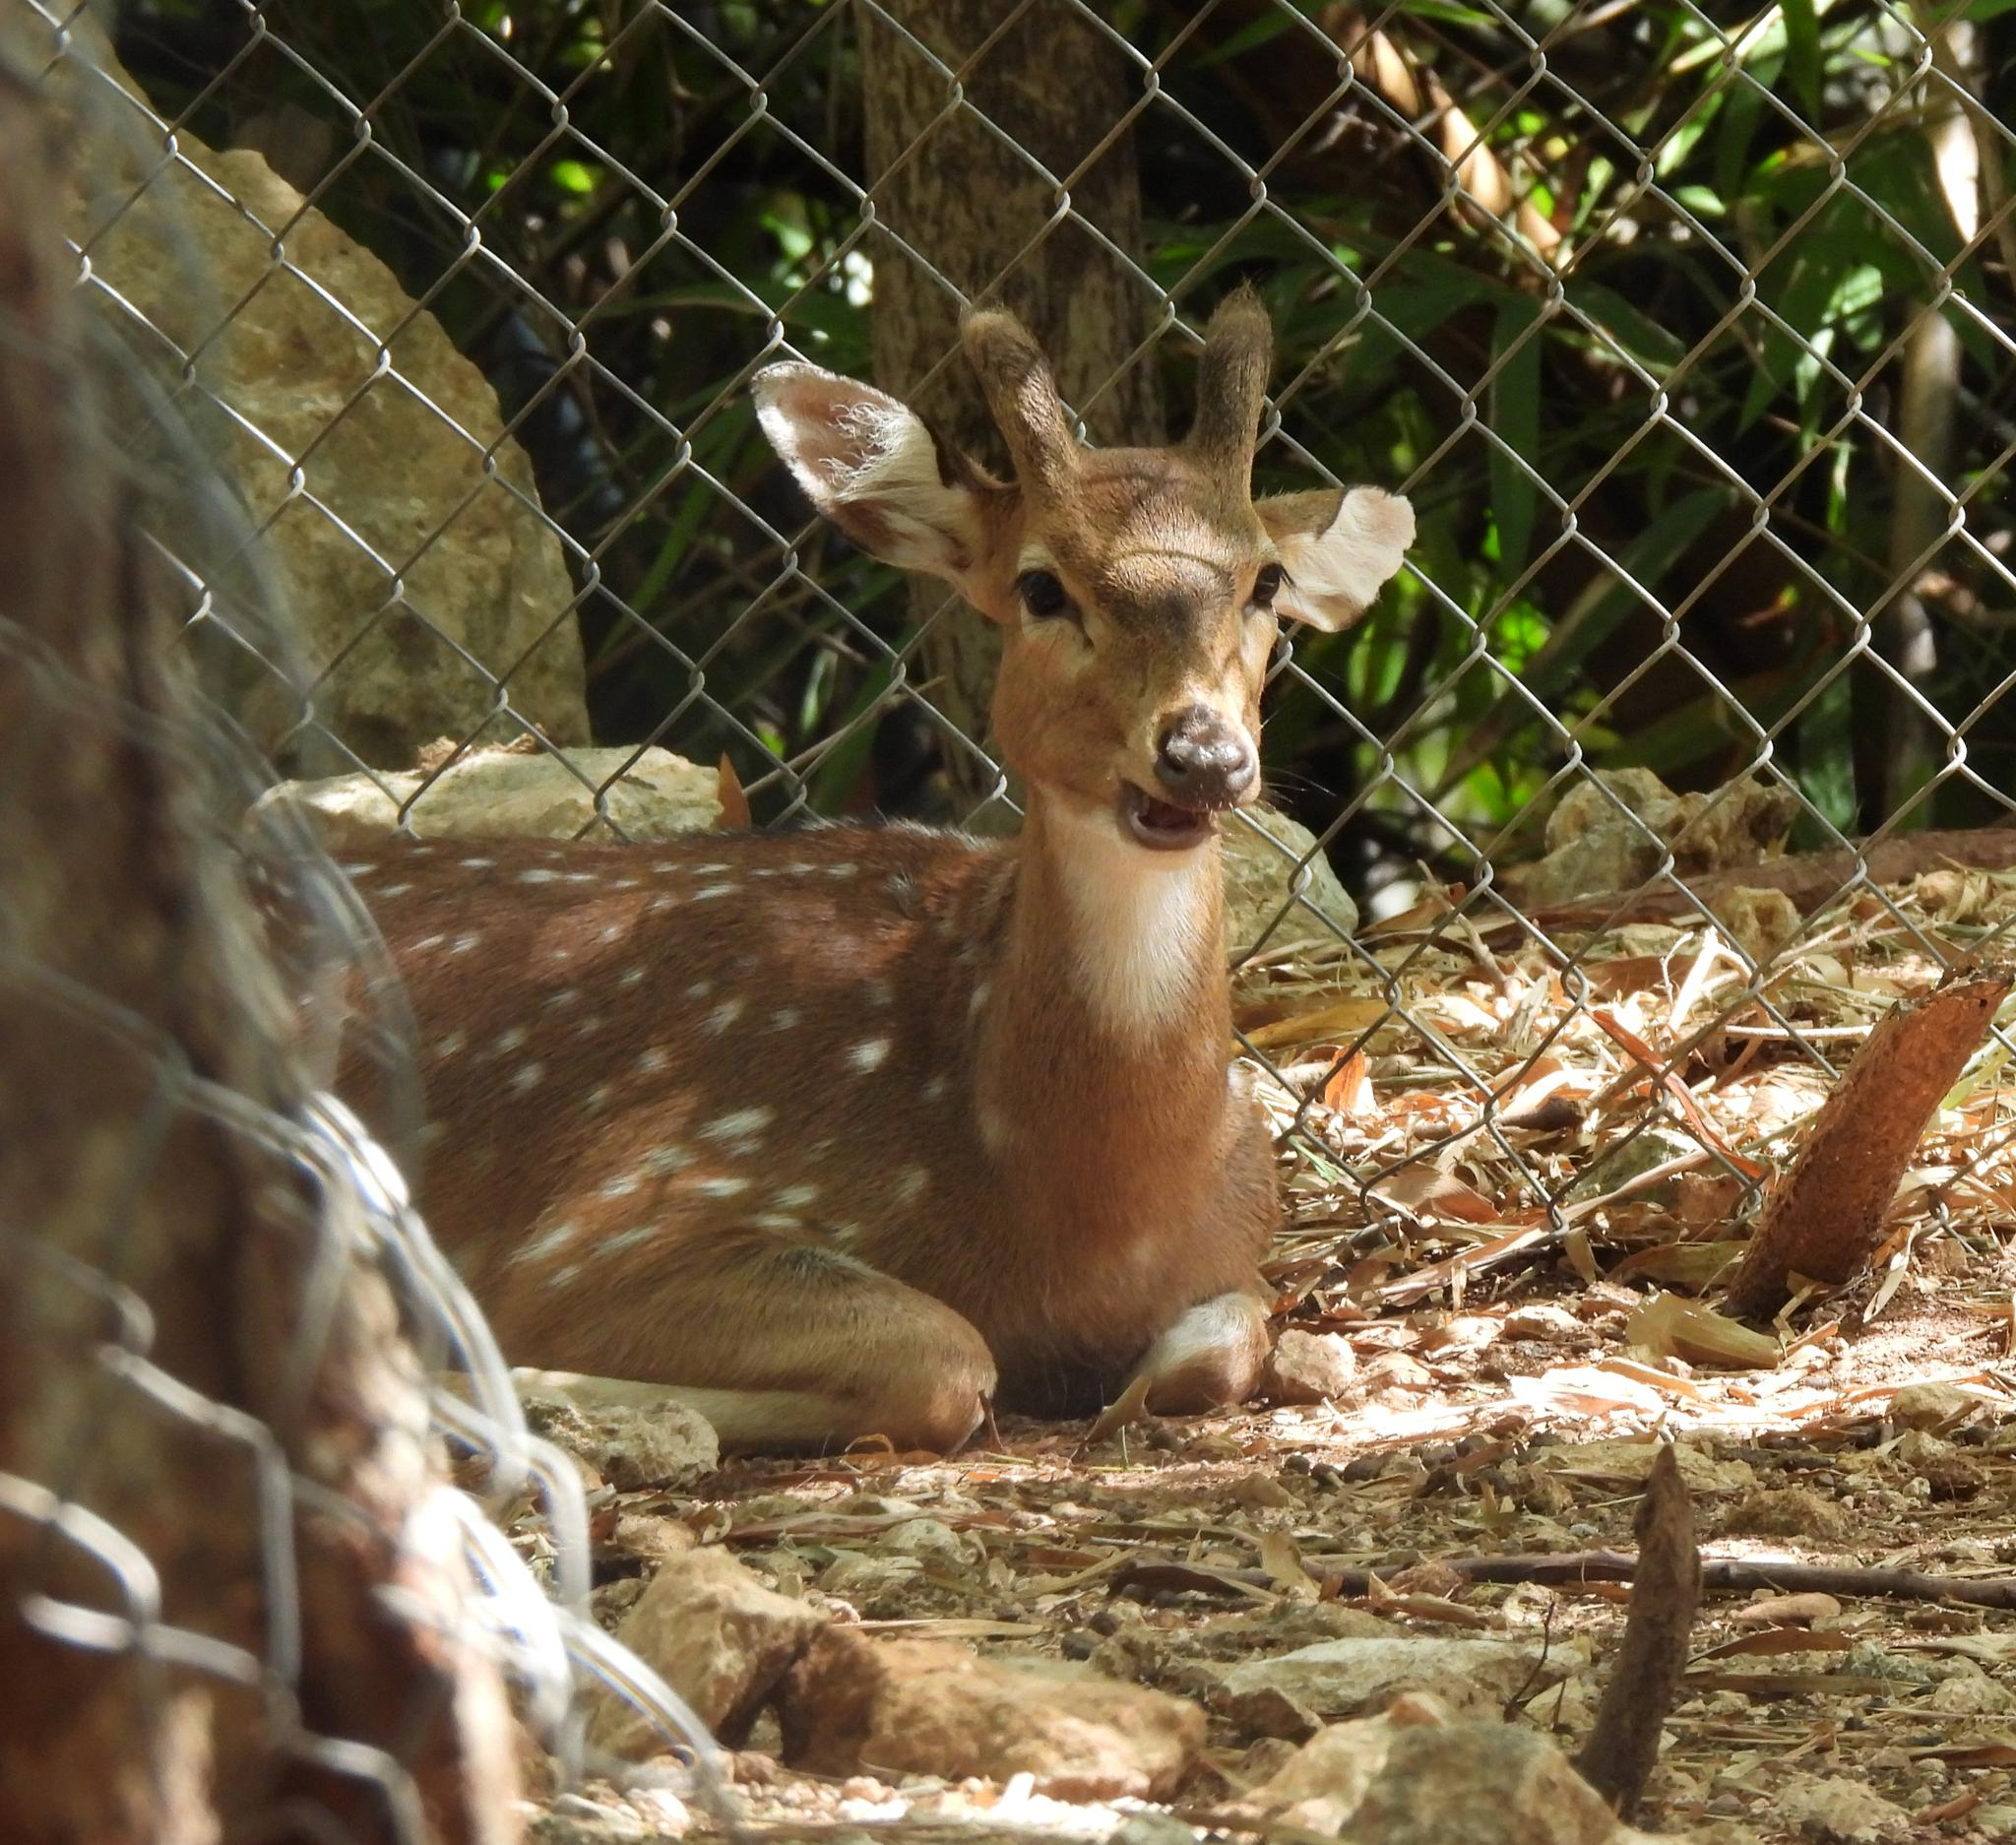Deer: (342, 288, 1410, 1451)
